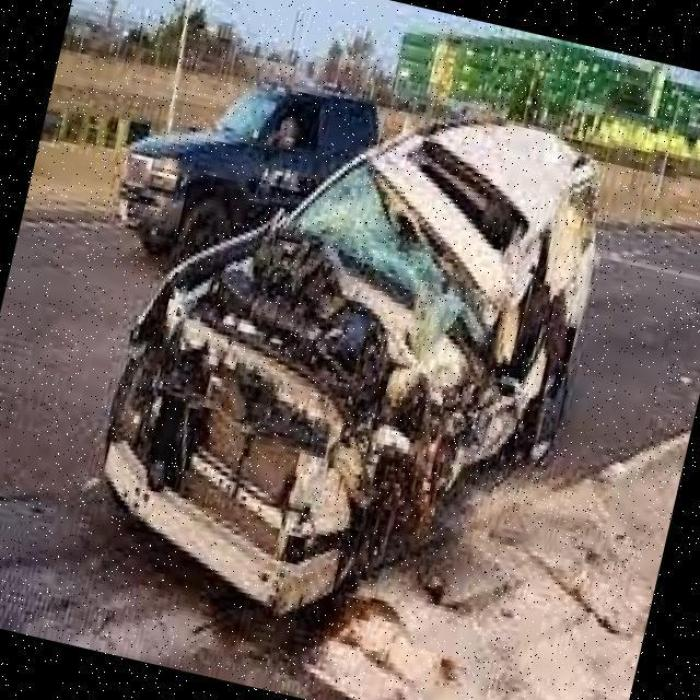Accident: (69, 24, 663, 683)
